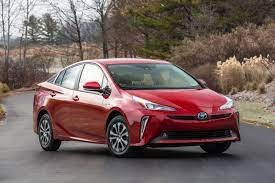Toyota: (32, 59, 241, 155)
